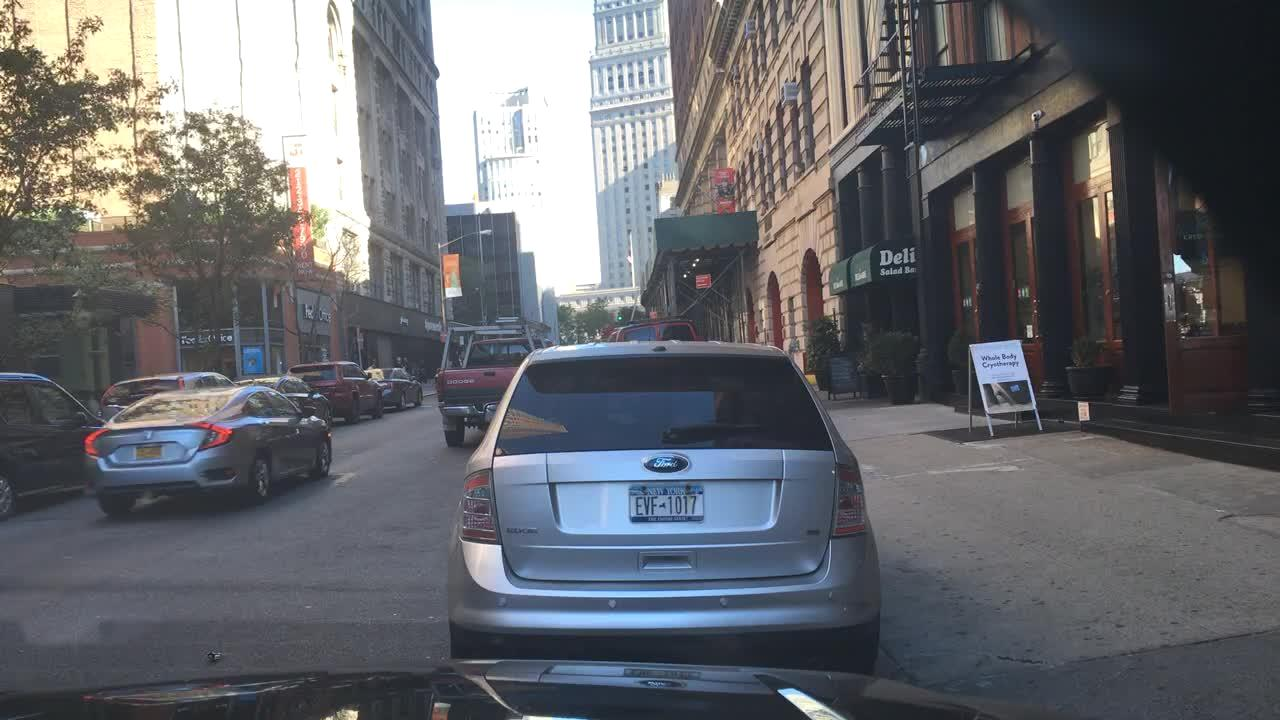ford: (626, 441, 712, 486)
